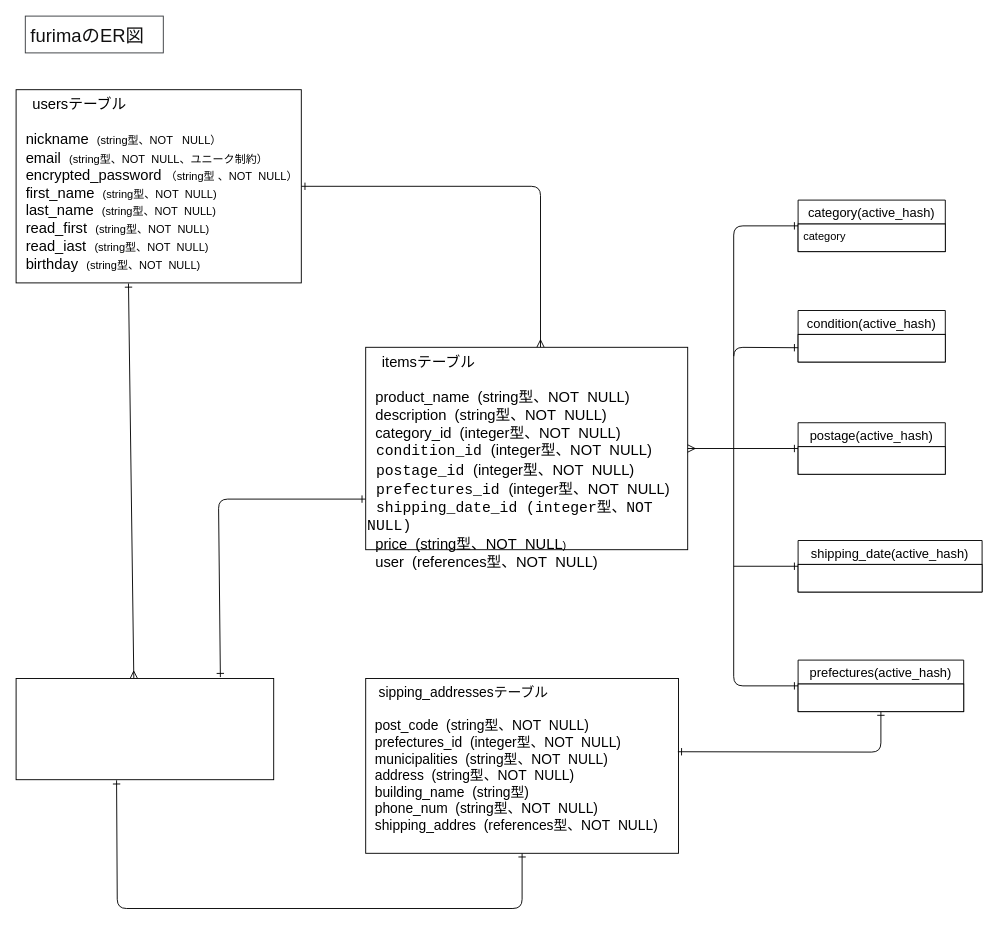
This 998x933 diagram has some shape labels left out. The centre of each missing label's shape, as x and y in pixels:
"condition" belongs at point 871,348.
"ordersテーブル user (references型、NOT NULL) items (references型、NOT NULL)" belongs at point 144,729.
"postage" belongs at point 871,460.
"prefectures" belongs at point 880,697.
"shipping_date" belongs at point 889,578.
